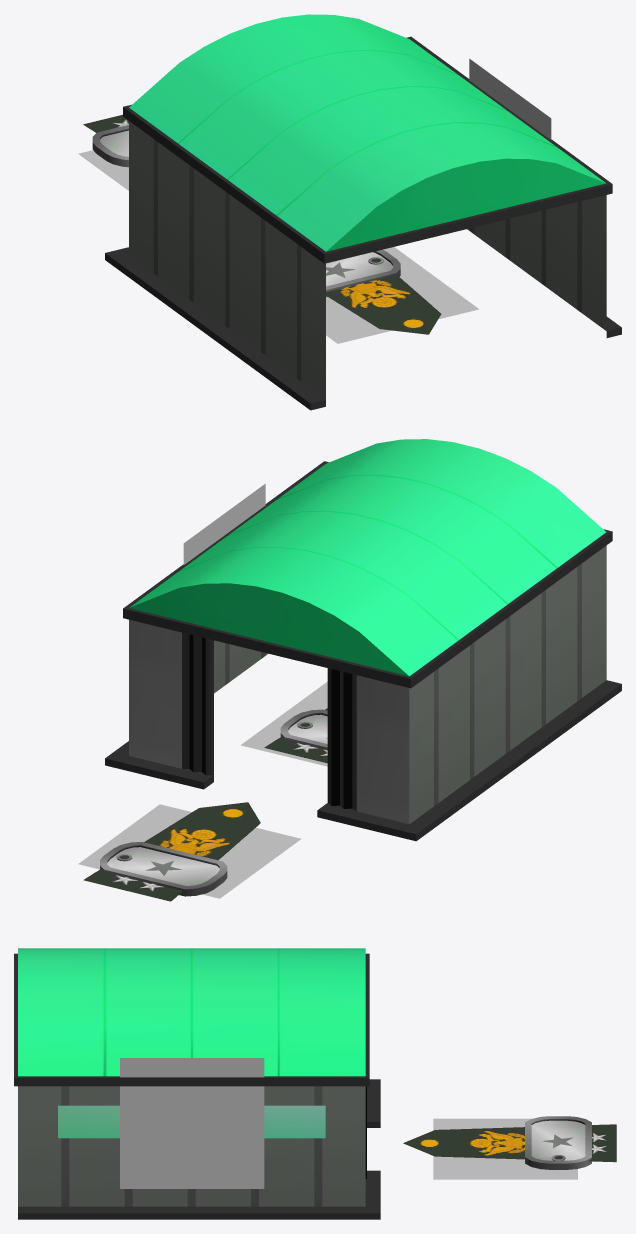
File: TankHangar.fbx
3 views of the same model, one above another, from view 1: azimuth 30°, elevation 25°; view 2: azimuth 150°, elevation 25°; view 3: azimuth 270°, elevation 25° (orthographic). The views are drawn at different scales.
Parts seen in each view (by area): view 1: Hangar, AreaProgress (×2), Ranks, Tag (×3), AreaProgress (1); view 2: Hangar, Tag (×3), Ranks (×2), AreaProgress (×2), AreaProgress (1); view 3: Hangar, AreaProgress (1), Tag (×2), Ranks, AreaProgress.
Part boxes in pixels (bbox=[...]): Hangar: bbox=[105, 14, 621, 410]; AreaProgress (×2): bbox=[78, 150, 478, 343]; Ranks: bbox=[326, 259, 441, 334]; Tag (×3): bbox=[92, 125, 400, 297]; AreaProgress (1): bbox=[469, 58, 551, 139]; Hangar: bbox=[105, 439, 621, 841]; Tag (×3): bbox=[100, 709, 327, 896]; Ranks (×2): bbox=[83, 708, 327, 901]; AreaProgress (×2): bbox=[78, 681, 327, 898]; AreaProgress (1): bbox=[183, 483, 265, 564]; Hangar: bbox=[14, 948, 380, 1219]; AreaProgress (1): bbox=[120, 1058, 264, 1188]; Tag (×2): bbox=[525, 1116, 591, 1169]; Ranks: bbox=[403, 1124, 616, 1162]; AreaProgress: bbox=[433, 1118, 577, 1179].
Bounding box in the file's own units: 4.39 × 2.8 × 8.42.
Materials: 3 (2 with a texture image).
